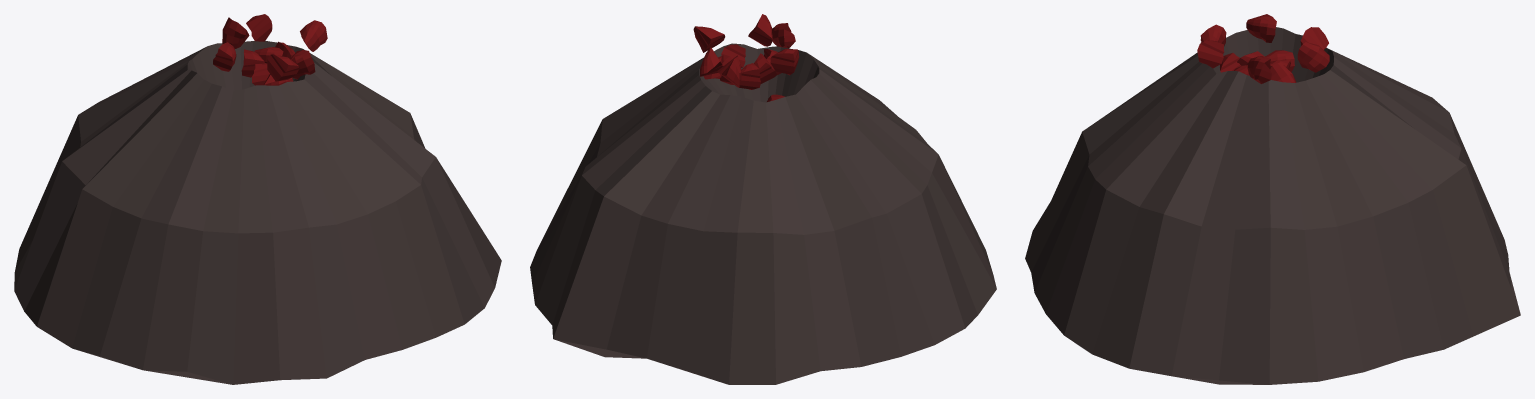
Rendered from Volcano.glb.
3 views of the same model, side by side, from view 1: azimuth 30°, elevation 25°; view 2: azimuth 150°, elevation 25°; view 3: azimuth 270°, elevation 25° (orthographic). The views are drawn at different scales.
Visible parts, largest first — view 1: Cylinder, Sphere.004, Sphere.010, Sphere.012, Sphere.006, Sphere.008, Sphere.014; view 2: Cylinder, Sphere.008, Sphere.010, Sphere.014, Sphere.004, Sphere.009, Sphere.012, Sphere.006; view 3: Cylinder, Sphere.006, Sphere.008, Sphere.014, Sphere.010.
Part boxes in pixels (box(x1,y1,x2,y2)): Cylinder: box(14, 41, 501, 384); Sphere.004: box(267, 54, 298, 81); Sphere.010: box(300, 20, 327, 51); Sphere.012: box(222, 17, 249, 48); Sphere.006: box(246, 14, 272, 41); Sphere.008: box(213, 42, 236, 71); Sphere.014: box(290, 50, 315, 76); Cylinder: box(530, 43, 996, 384); Sphere.008: box(770, 49, 799, 75); Sphere.010: box(693, 26, 725, 52); Sphere.014: box(748, 14, 772, 46); Sphere.004: box(772, 23, 795, 48); Sphere.009: box(739, 63, 760, 89); Sphere.012: box(717, 55, 741, 87); Sphere.006: box(700, 47, 722, 76); Cylinder: box(1025, 27, 1520, 384); Sphere.006: box(1297, 42, 1329, 72); Sphere.008: box(1246, 14, 1276, 42); Sphere.014: box(1197, 40, 1224, 68); Sphere.010: box(1247, 56, 1271, 83).
Bounding box in the file's own units: 32.11 × 18.14 × 31.73.
